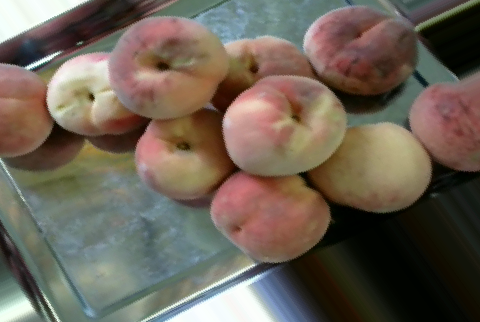Peach: (220, 75, 345, 178), (108, 17, 226, 117), (306, 119, 429, 212), (212, 169, 330, 263), (304, 3, 416, 95), (135, 105, 241, 201), (47, 49, 143, 140), (409, 73, 479, 169), (0, 60, 54, 157)
